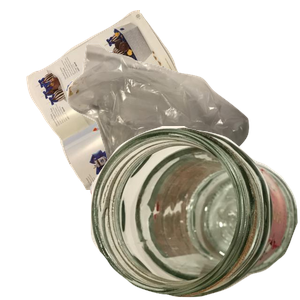glass: (90, 126, 300, 300)
paper: (24, 10, 235, 190)
plastic: (87, 178, 234, 300)
trash: (65, 41, 300, 221)
